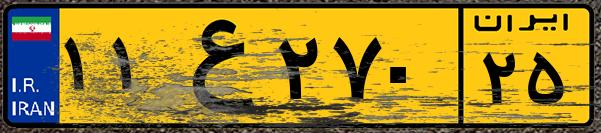0: (385, 28, 445, 110)
1: (57, 26, 110, 100), (110, 28, 158, 98)
2: (270, 28, 330, 110), (475, 38, 525, 113)
5: (525, 38, 570, 115)
7: (330, 28, 385, 110)
ع: (158, 12, 270, 120)
